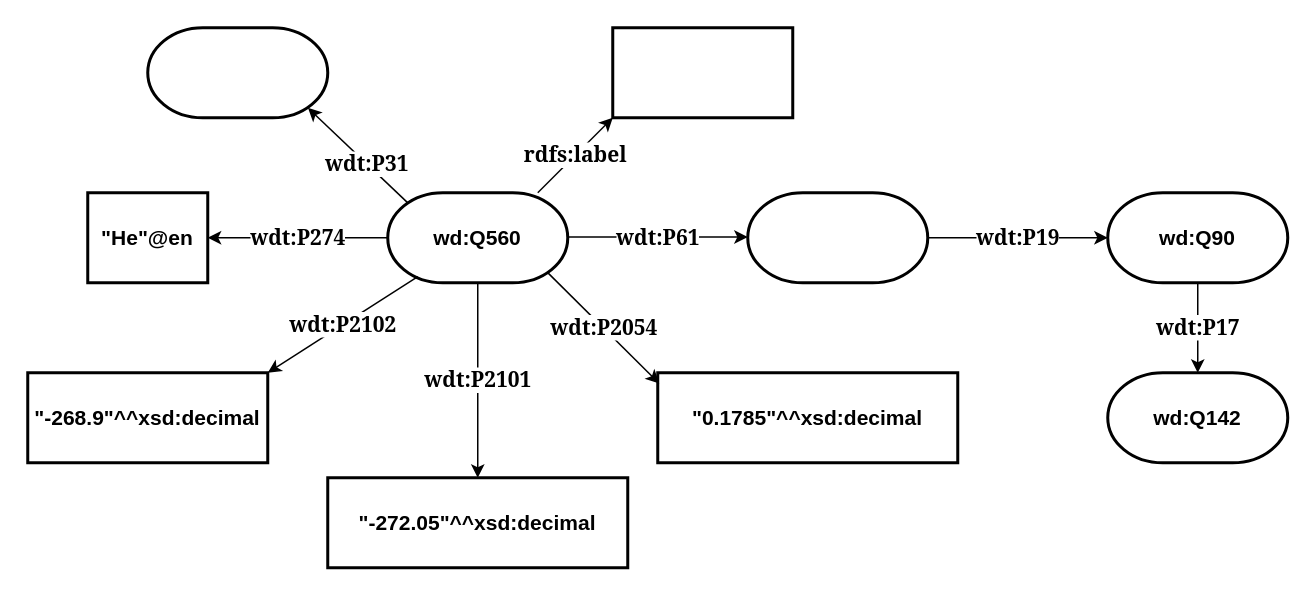
The diagram is 1314 pixels wide and 594 high, and some of its shapes have lost their labels. The shapes that lost their labels are listed below. From the top down, each one's box as (x1, y1, x2, y2) in pixels, then its label:
(146, 26, 328, 118): wd:Q11344
(610, 26, 794, 118): "helium"@en
(746, 190, 928, 284): wd:Q298581
